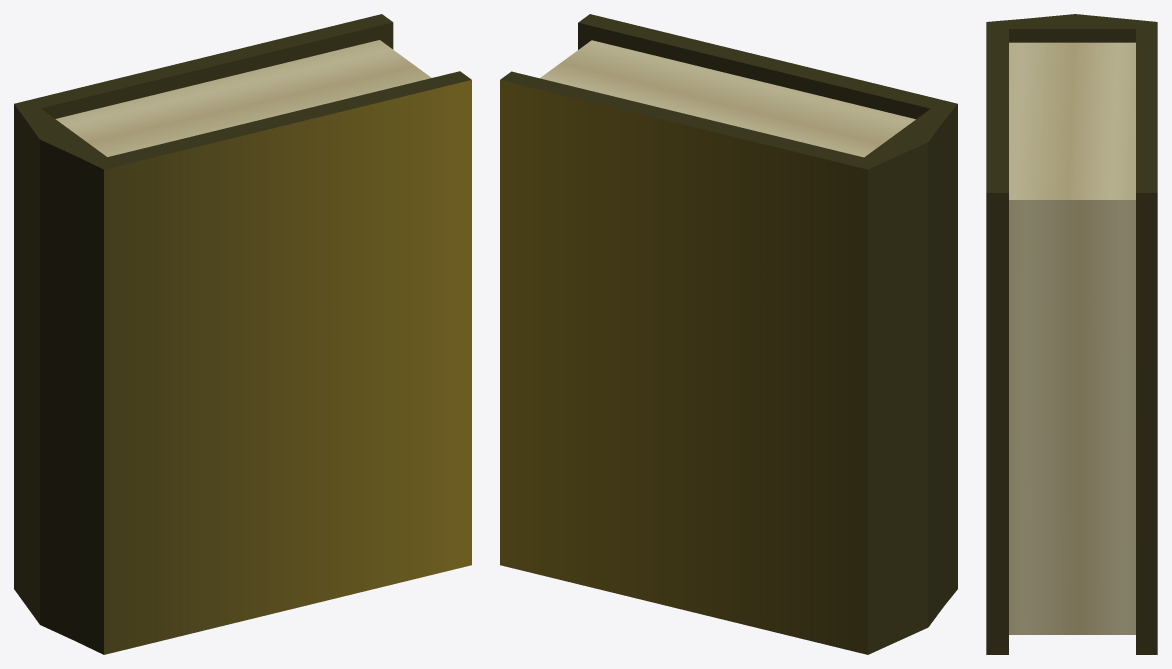
The model's file is libro2contextura.fbx.
3 views of the same model, side by side, from view 1: azimuth 30°, elevation 25°; view 2: azimuth 150°, elevation 25°; view 3: azimuth 270°, elevation 25° (orthographic). The views are drawn at different scales.
Visible parts, largest first — view 1: pCube2; view 2: pCube2; view 3: pCube2.
Part boxes in pixels (<box>): pCube2: <box>14,14,471,654</box>; pCube2: <box>500,14,957,654</box>; pCube2: <box>986,14,1157,654</box>.
Size of the model in its own units: 2.97 by 3.58 by 1.2.
1 material, 1 textured.
